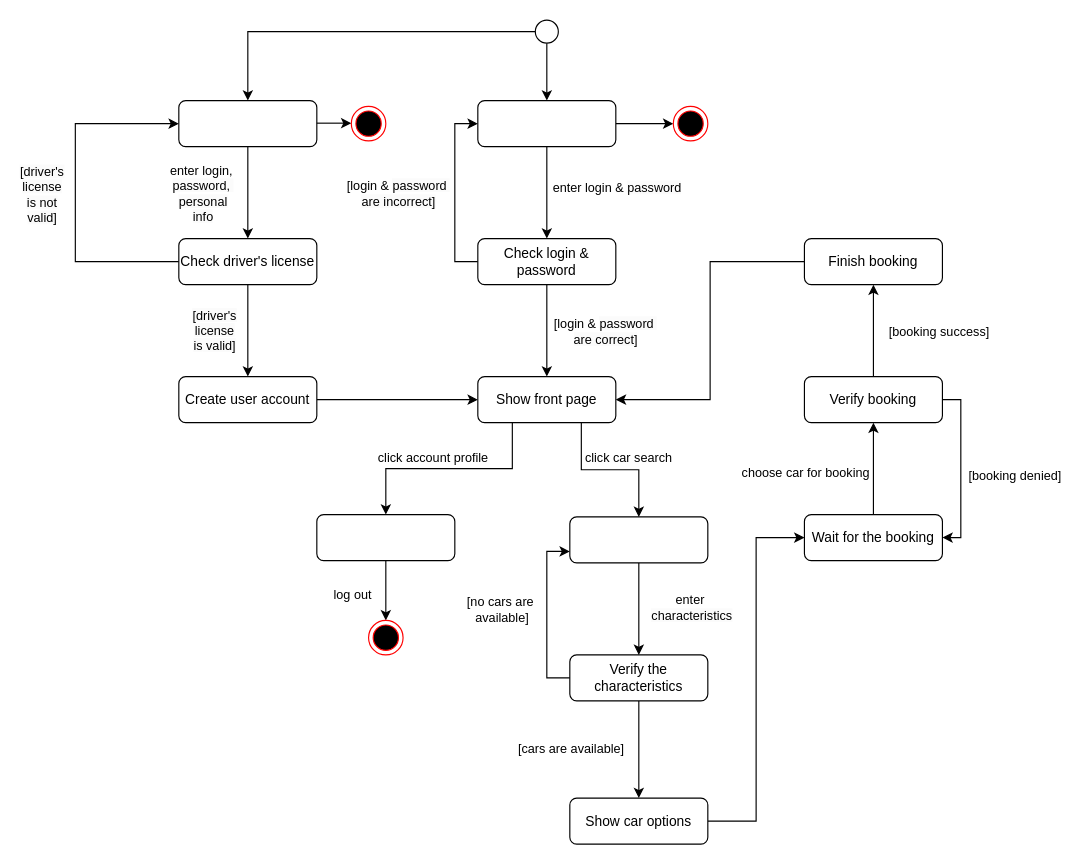
The diagram is 1081 pixels wide and 865 high, and some of its shapes have lost their labels. Each missing label, with the box of its shape:
Manage user account: (316, 513, 455, 561)
Wait for the characteristics: (569, 516, 708, 563)
Wait for the registration: (178, 99, 317, 147)
Wait for the sign up: (477, 99, 616, 147)
